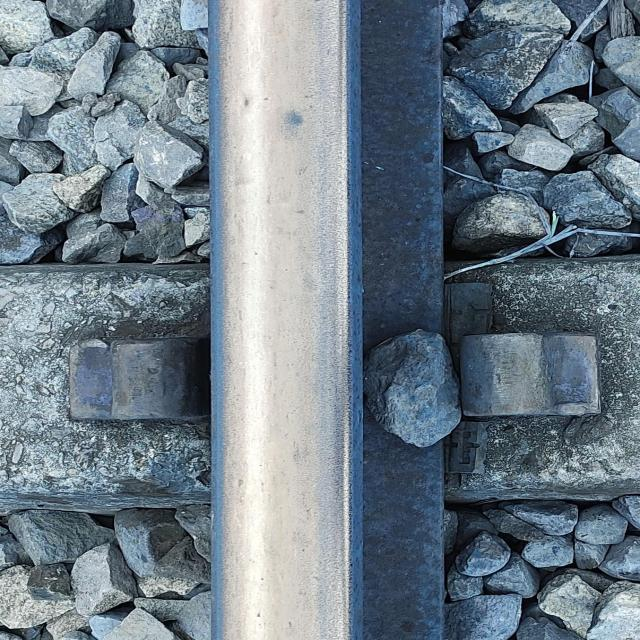Missing Fastener: (0, 284, 252, 487), (379, 308, 639, 504)
